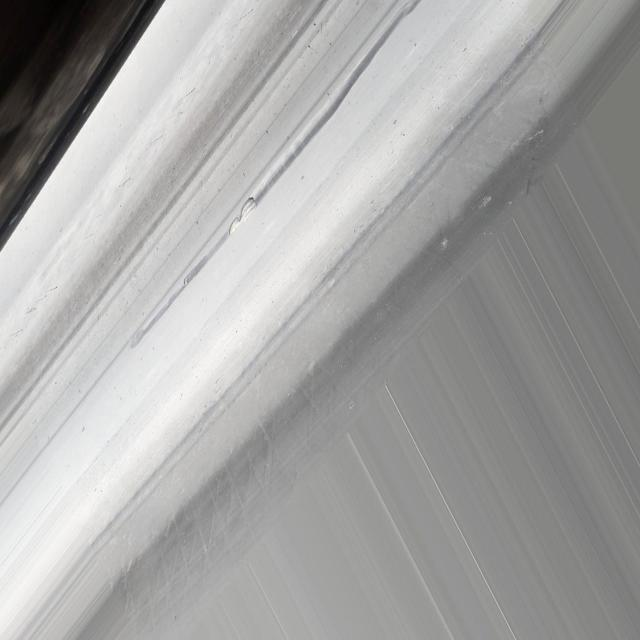Impact Damage: (225, 187, 264, 242)
